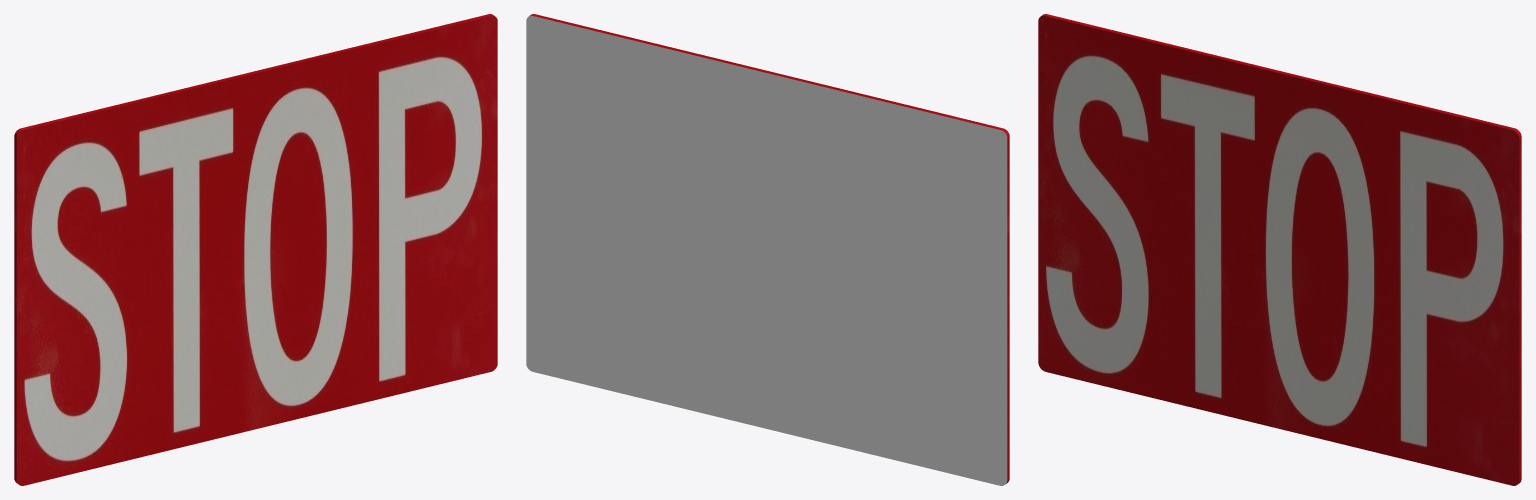
3 views of the same model, side by side, from view 1: azimuth 30°, elevation 25°; view 2: azimuth 150°, elevation 25°; view 3: azimuth 330°, elevation 25° (orthographic).
Visible parts, largest first — view 1: Danger_sign; view 2: Danger_sign (×2); view 3: Danger_sign.
Boxes of the visible parts, x1,y1,x2,y2 form: Danger_sign: (14, 14, 497, 485); Danger_sign (×2): (526, 14, 1009, 485); Danger_sign: (1038, 14, 1521, 485).
Size of the model in its own units: 11.63 by 0.1 by 8.22.
Materials: 2 (1 with a texture image).
